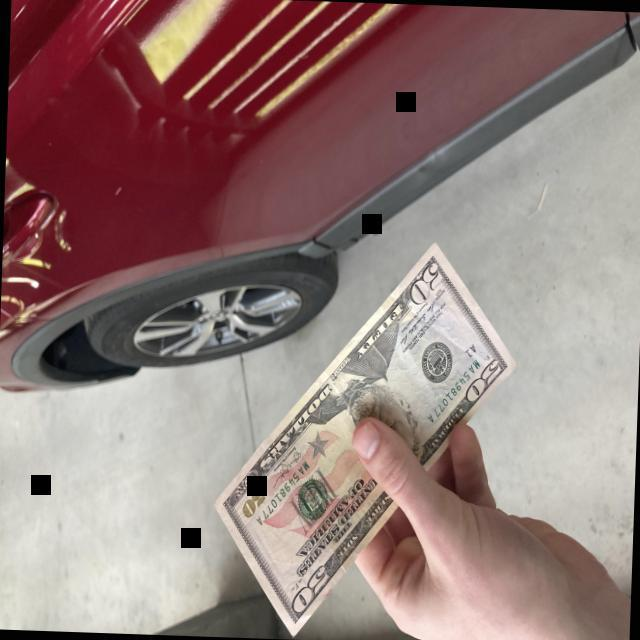fifty: (212, 240, 517, 637)
